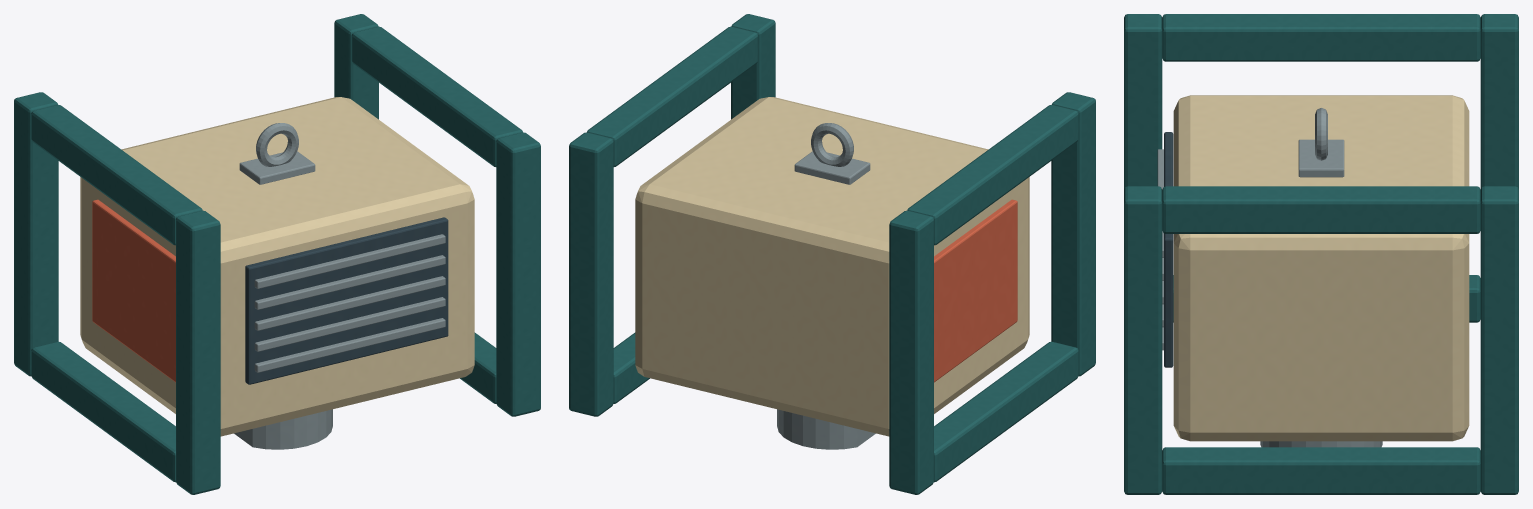
Rendered from generator-lod-0.glb.
3 renders of one model, left to right at view 1: azimuth 30°, elevation 25°; view 2: azimuth 150°, elevation 25°; view 3: azimuth 270°, elevation 25°, orthographic. The views are drawn at different scales.
Visible parts, largest first — view 1: generator_lod_0; view 2: generator_lod_0; view 3: generator_lod_0.
Part boxes in pixels (<box>): generator_lod_0: <box>14,14,540,494</box>; generator_lod_0: <box>569,14,1095,494</box>; generator_lod_0: <box>1124,14,1518,494</box>.
Size of the model in its own units: 1.75 by 1.46 by 1.55.
1 material, 1 textured.
